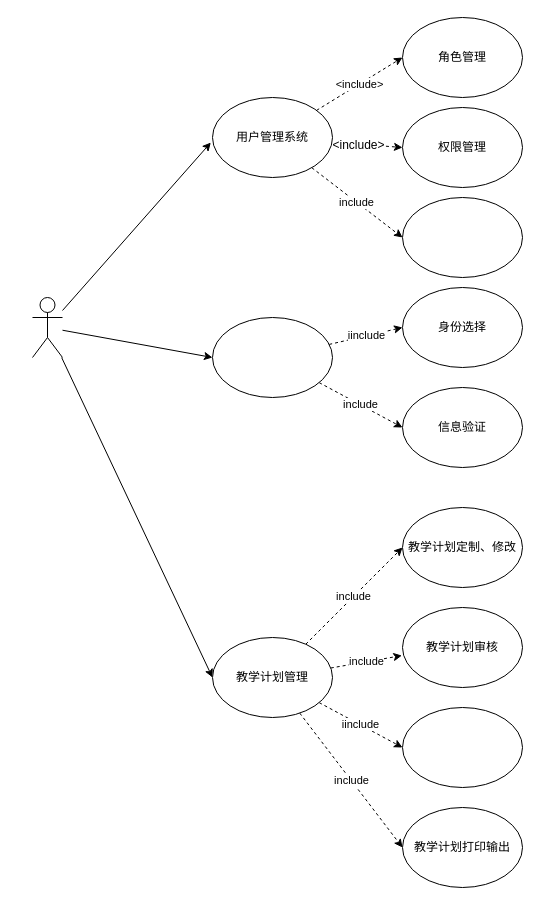
Some shapes in this 540 by 905 pixel diagram are drawn without their labels. Here are the shapes that lost their labels. From the top down, the box of each, then its label:
(402, 196, 522, 278): 用户管理
(32, 296, 62, 358): 学校校务处
(212, 316, 332, 398): 登陆系统
(402, 706, 522, 788): 教学计划发布
